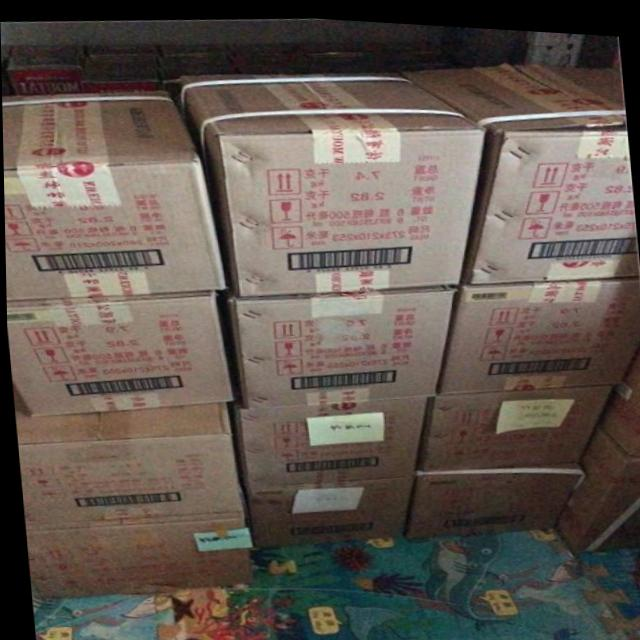box: (168, 68, 486, 292), (396, 58, 640, 278), (2, 85, 221, 300), (12, 382, 242, 529), (210, 280, 455, 404), (6, 289, 230, 415), (438, 272, 640, 388), (25, 515, 248, 598), (416, 376, 614, 466), (226, 393, 422, 482), (546, 376, 640, 547), (402, 458, 575, 533), (243, 470, 409, 543)
